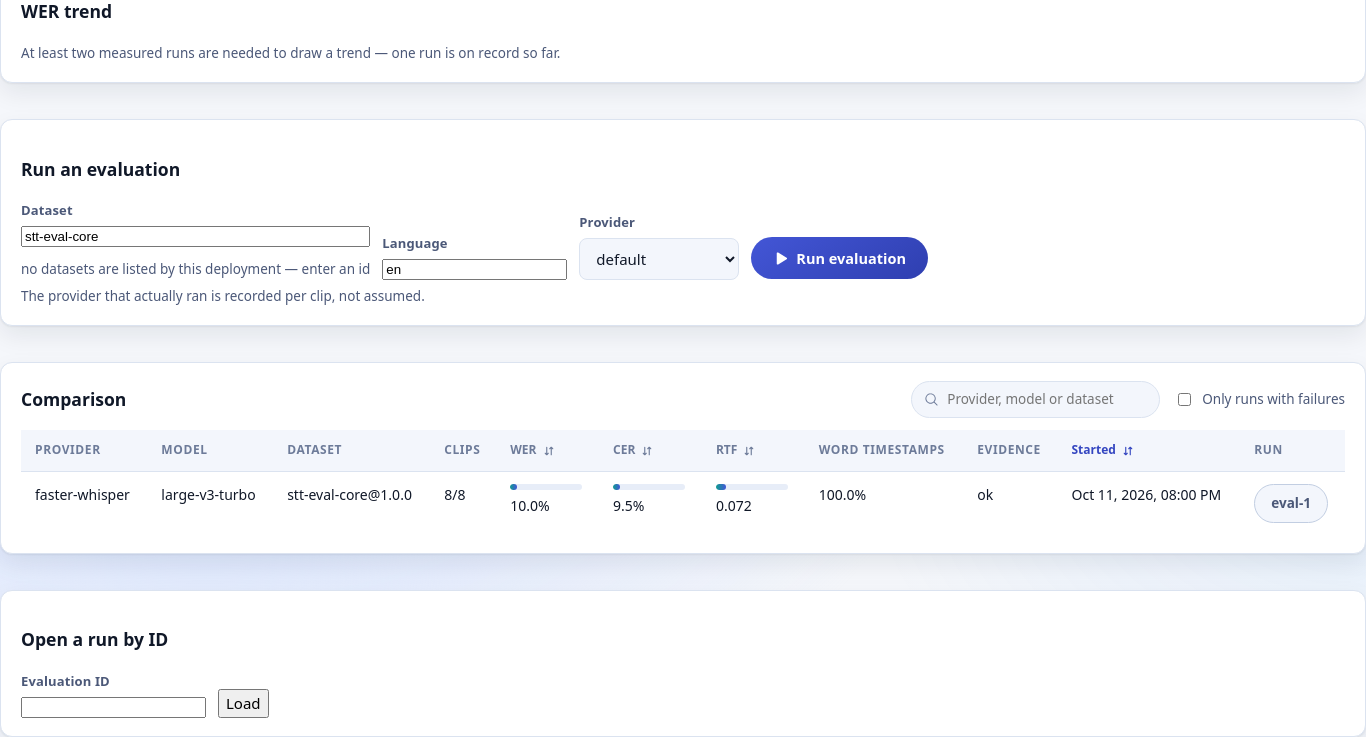
Test: the clip table of an open run searches, sorts and pages
(page scrolled)
Click the button "eval-1" at (1291, 503), box top-left (1254, 484), bottom-right (1328, 523)
(page scrolled)
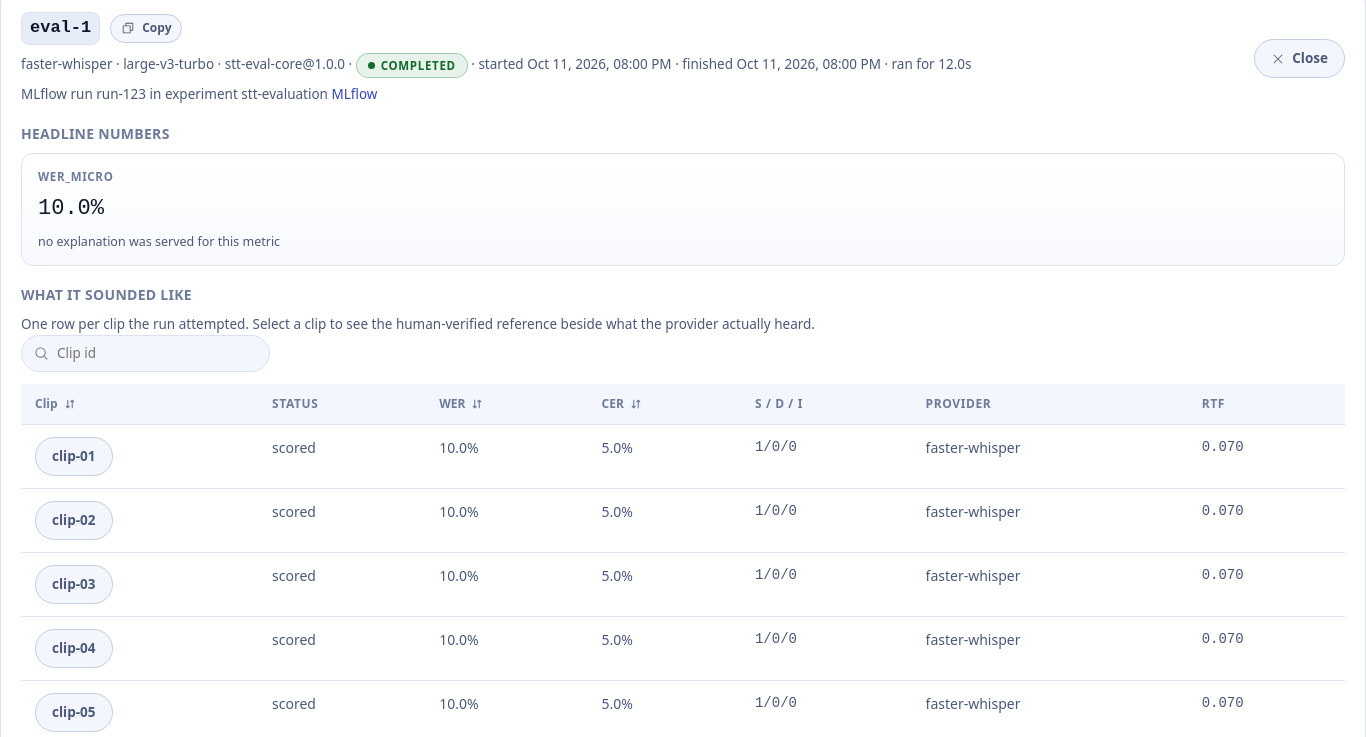
Type "clip-12" into the search field named "search clips" at (157, 353), box top-left (57, 343), bottom-right (257, 364)
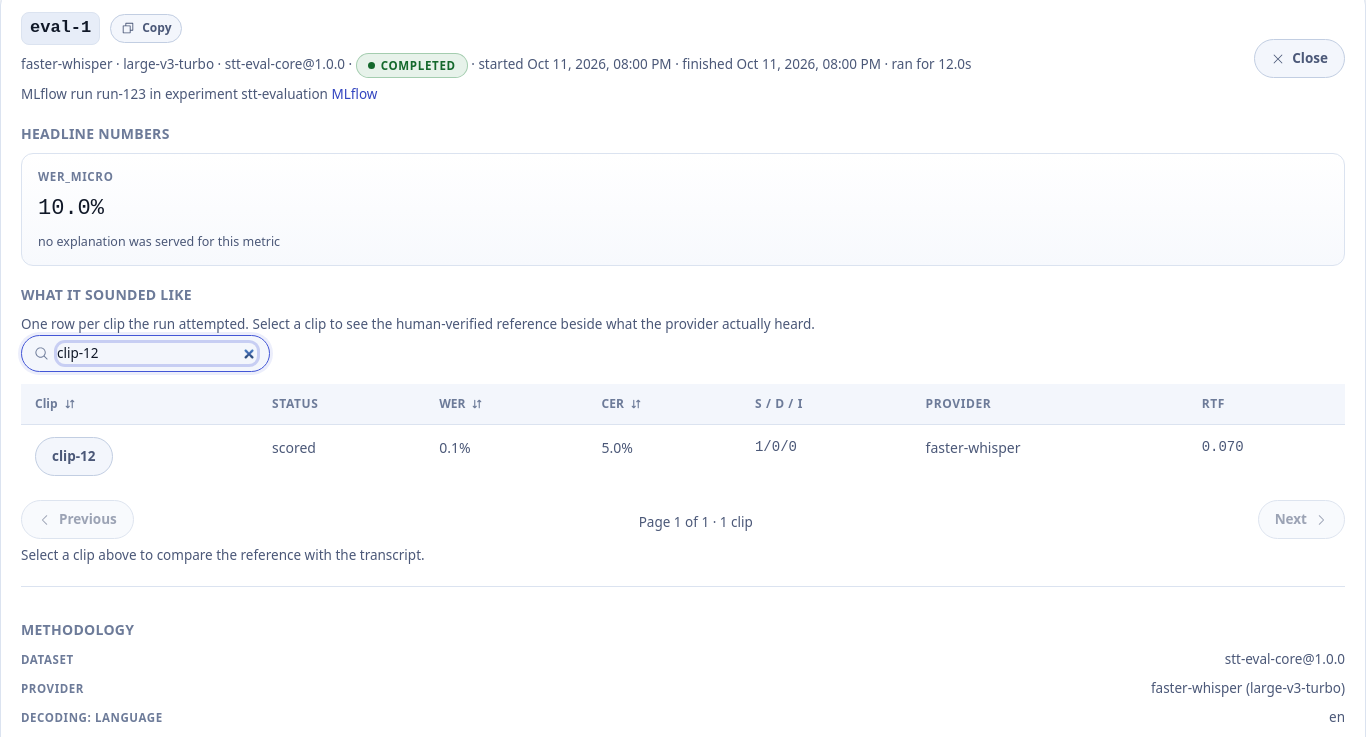
Now the text with test id "clip-page" shows "Page 1 of 1", box top-left (639, 512), bottom-right (753, 533)
Clear the search field named "search clips" at (157, 353), box top-left (57, 343), bottom-right (257, 364)
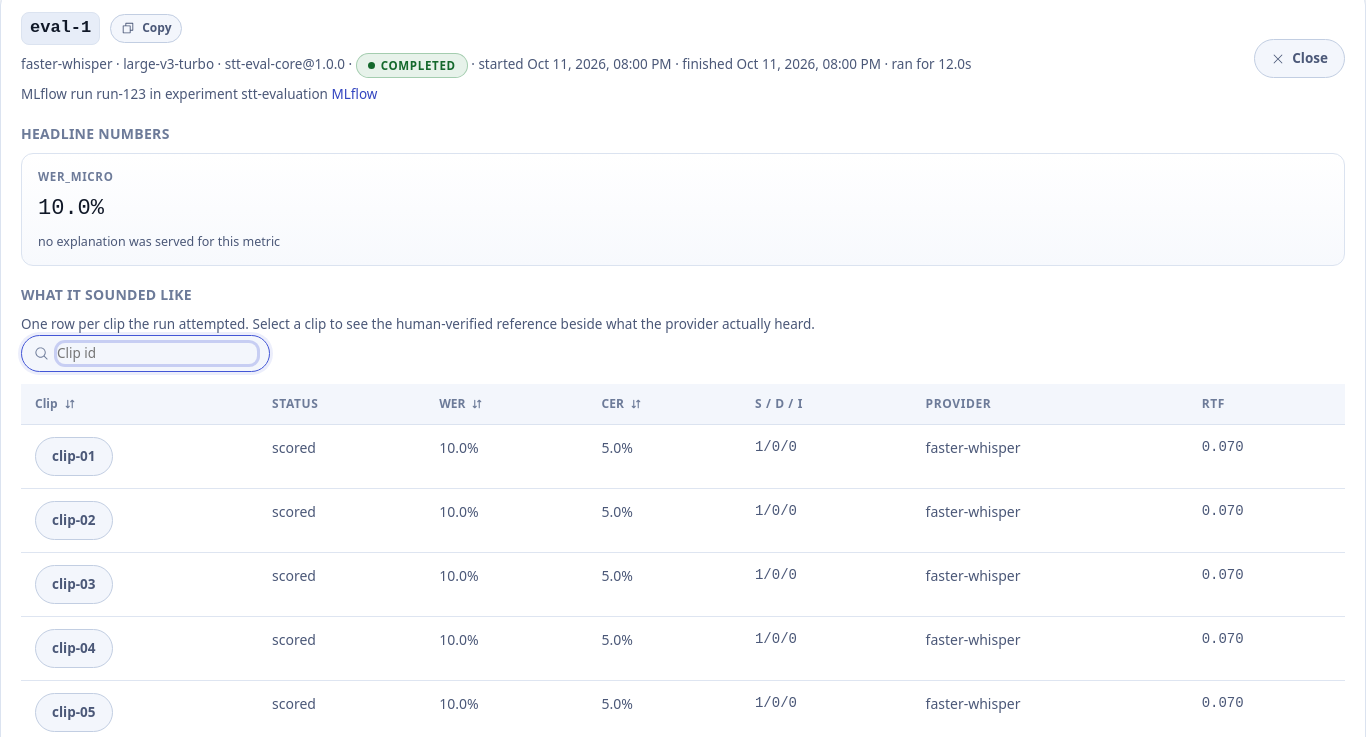
Click the button "WER" at (461, 404), box top-left (439, 395), bottom-right (484, 413)
(page scrolled)
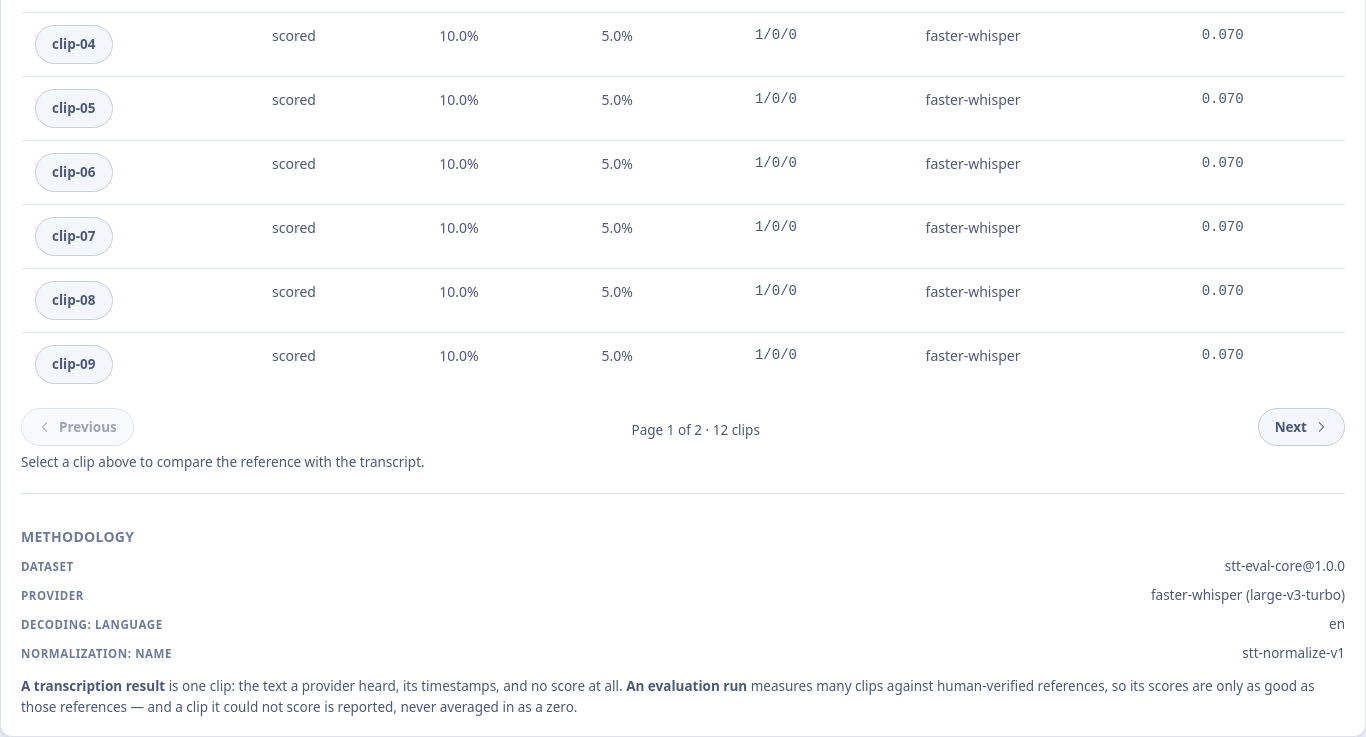
Click the button with aria-label "next page" at (1301, 427), box top-left (1258, 408), bottom-right (1345, 446)
(page scrolled)
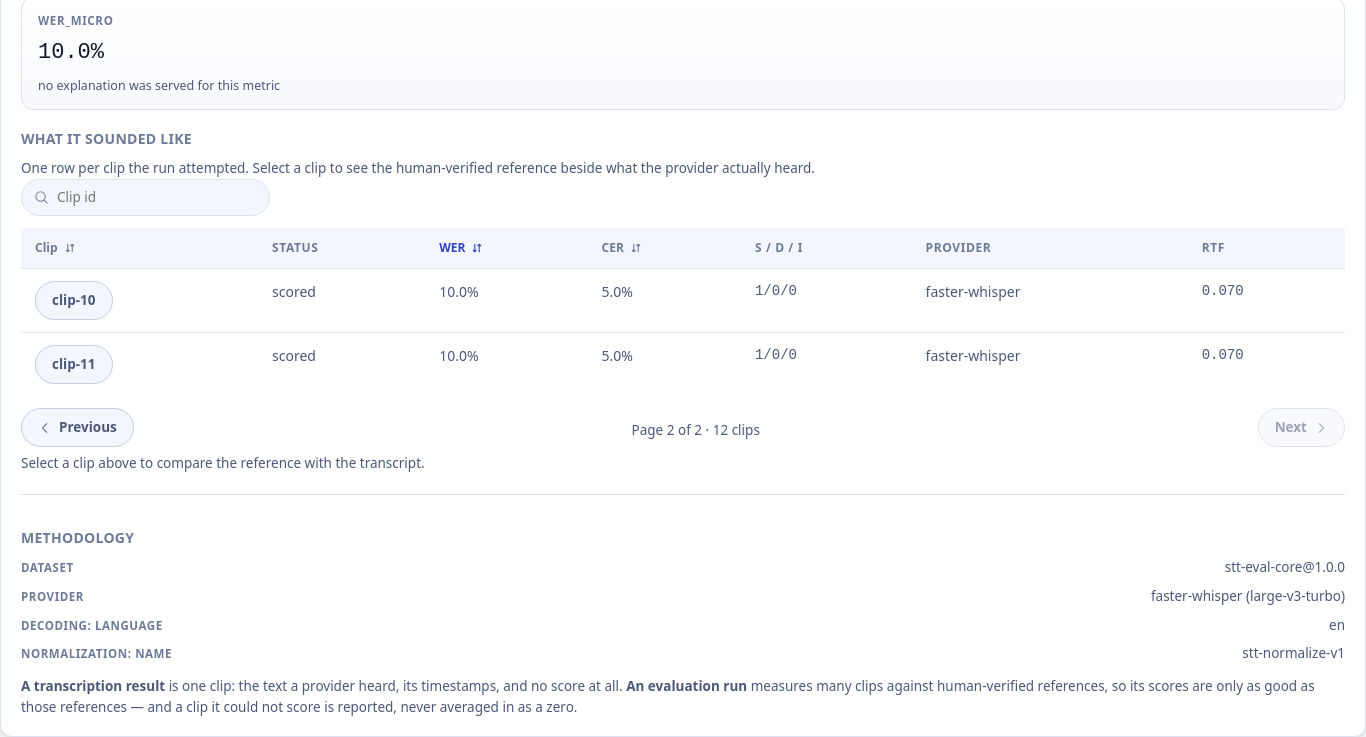
Now the text with test id "clip-page" shows "Page 2 of 2", box top-left (632, 420), bottom-right (760, 441)
